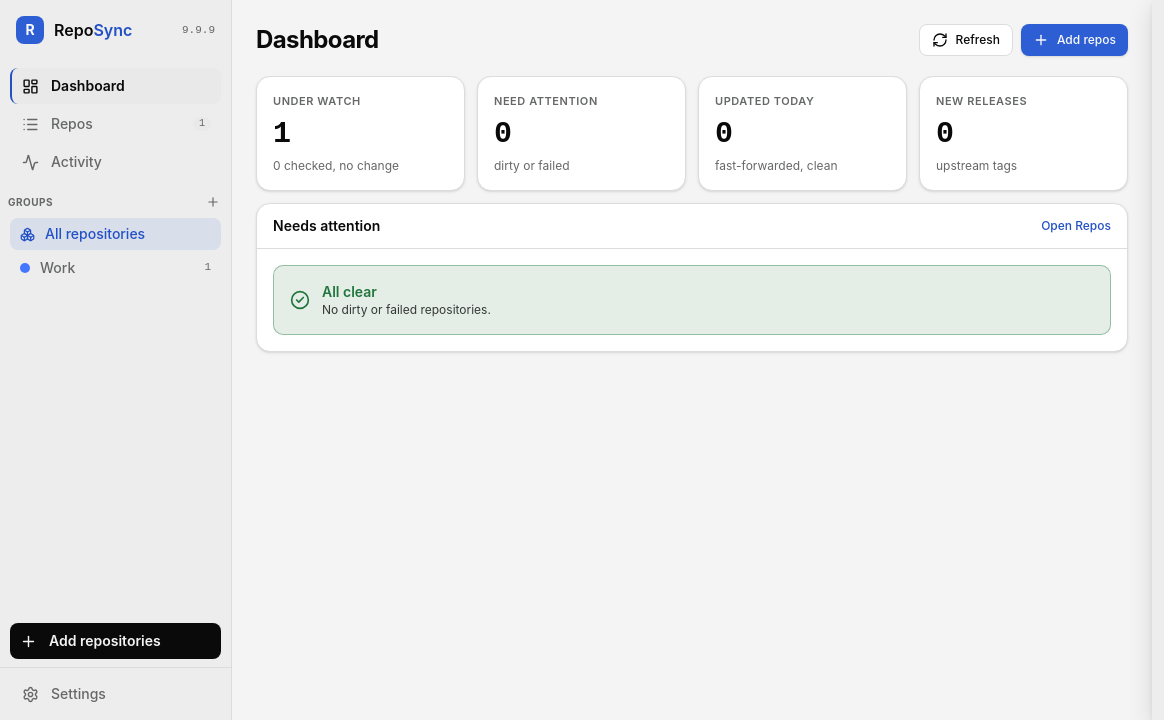
Test: AppShell sidebar › selecting a group from the Groups section navigates to Repos
Expected: the heading "Dashboard" is shown, top-left (256, 26), bottom-right (379, 54)
Step 1. Click the button "Work" → (107, 268), box top-left (10, 252), bottom-right (204, 284)
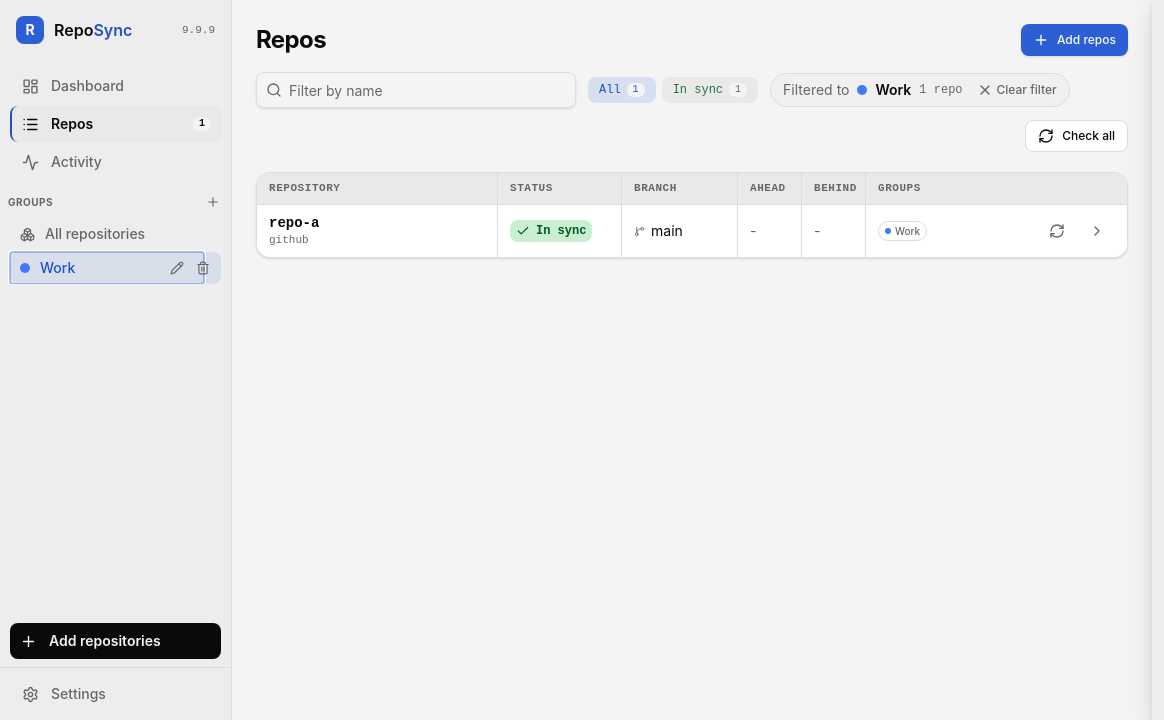
Expected: the heading "Repos" is shown, top-left (256, 26), bottom-right (326, 54)
